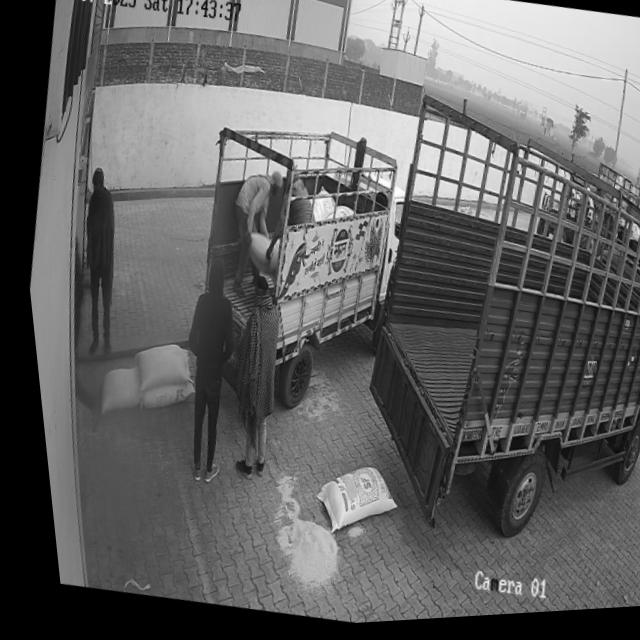sack: (296, 460, 394, 549), (119, 338, 188, 400), (85, 360, 139, 419), (129, 375, 188, 418)
